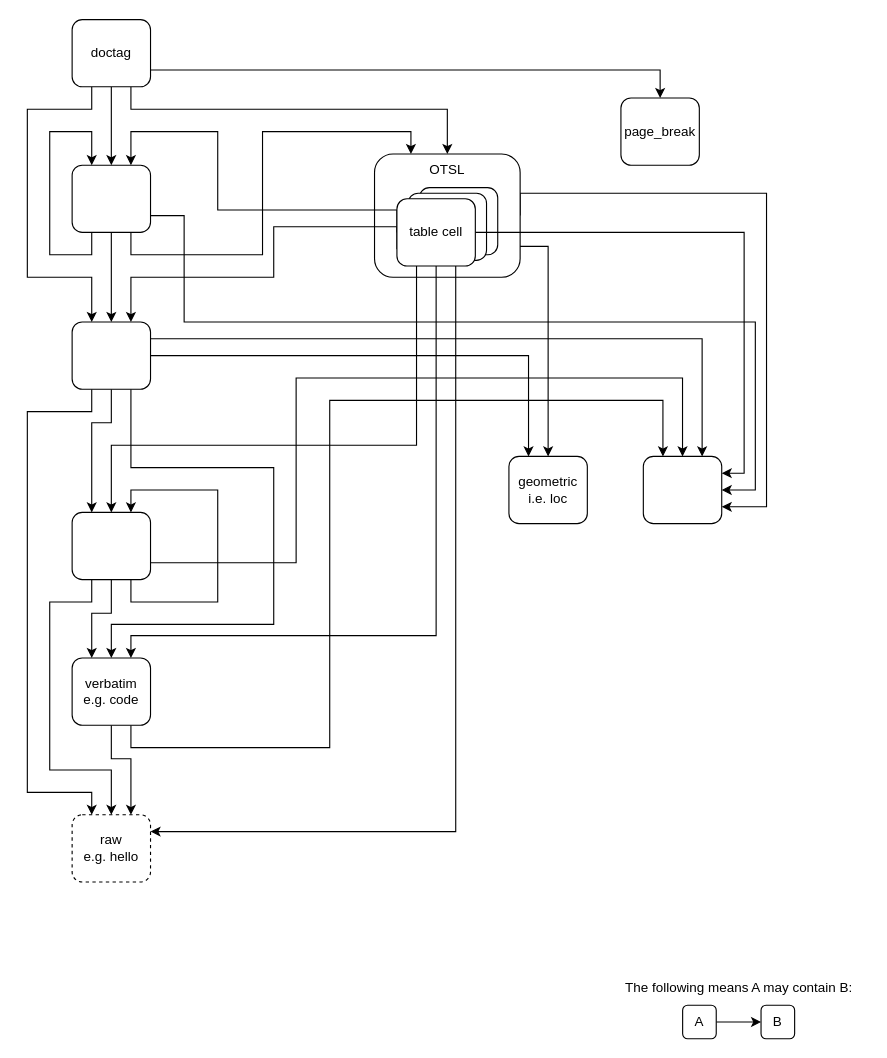
The diagram is 887 pixels wide and 1058 high, and some of its shapes have lost their labels. The centre of each missing label's shape, as x and y in pixels:
"continuation e.g. thread" goes at (682,489).
"formatting e.g. italic" goes at (111,545).
"group" goes at (111,198).
"semantic e.g. caption" goes at (111,355).
